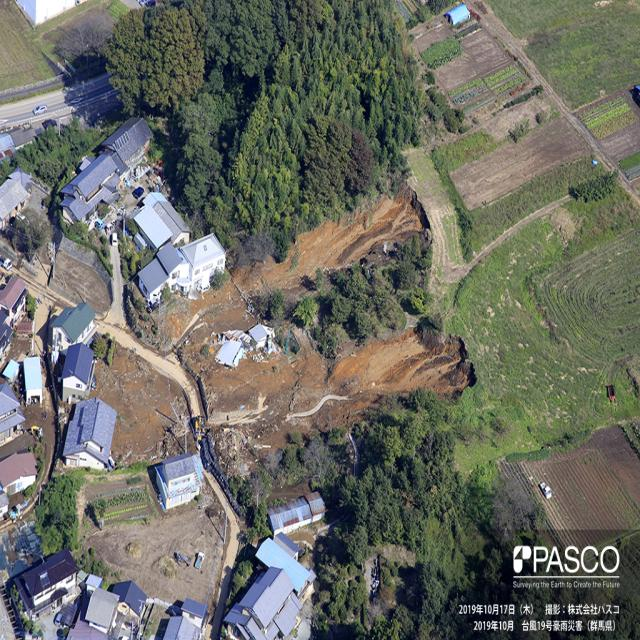Debris-flow: (260, 180, 430, 299), (312, 317, 475, 409), (290, 319, 325, 388), (430, 217, 444, 291), (365, 274, 395, 302)
